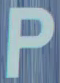Parking: (6, 1, 52, 76)
